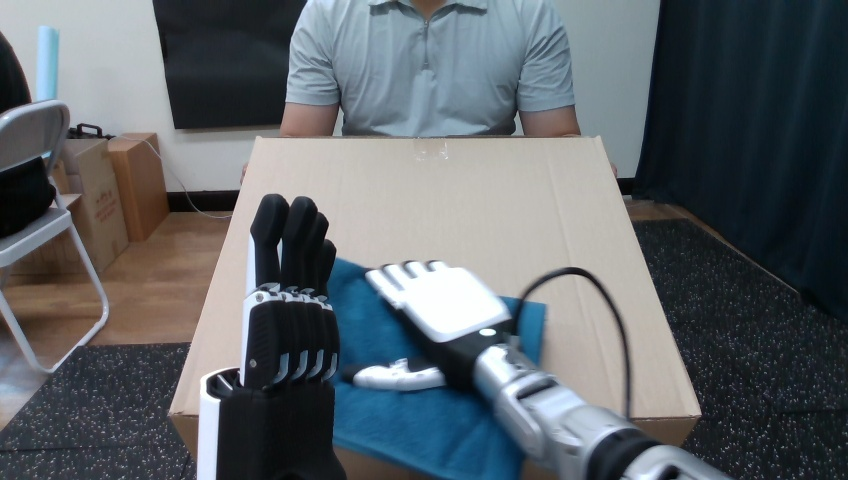left robot hand: (353, 260, 728, 479), (197, 194, 345, 479)
